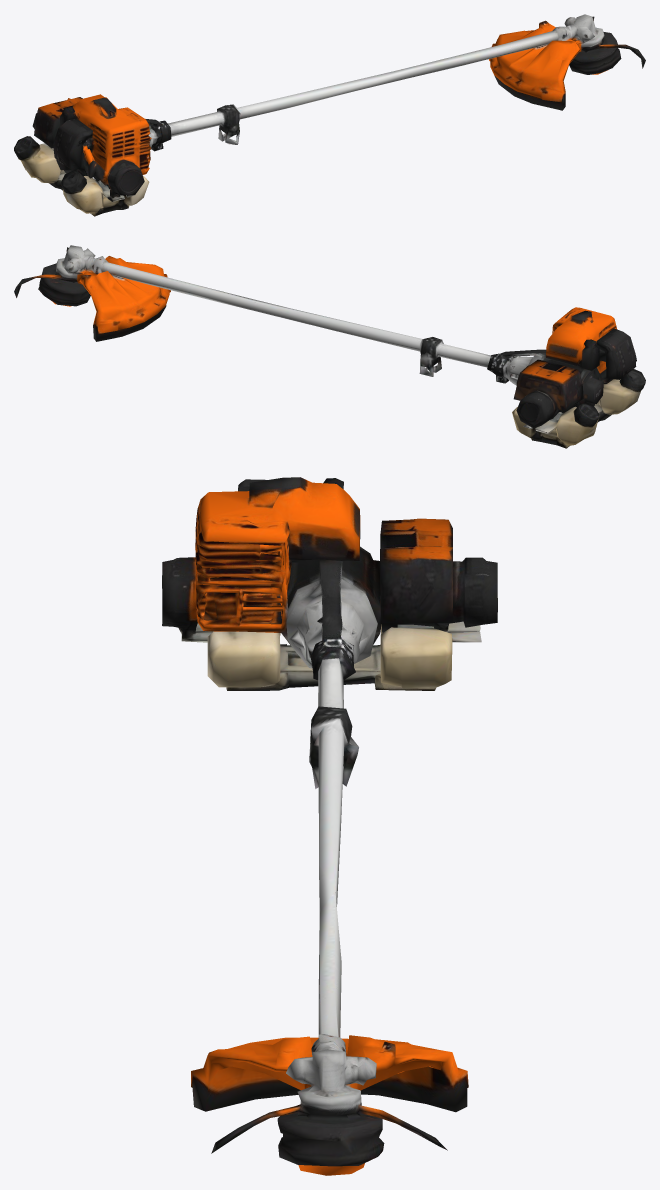
The model's file is tirpan_govde.glb.
3 renders of one model, top to bottom at view 1: azimuth 30°, elevation 25°; view 2: azimuth 150°, elevation 25°; view 3: azimuth 270°, elevation 25°, orthographic. The views are drawn at different scales.
Parts seen in each view (by area): view 1: tripo_node_5ec37809-a437-41fc-8ef6-4a4713528f0b; view 2: tripo_node_5ec37809-a437-41fc-8ef6-4a4713528f0b; view 3: tripo_node_5ec37809-a437-41fc-8ef6-4a4713528f0b.
Boxes of the visible parts, x1,y1,x2,y2 form: tripo_node_5ec37809-a437-41fc-8ef6-4a4713528f0b: [14, 14, 645, 216]; tripo_node_5ec37809-a437-41fc-8ef6-4a4713528f0b: [14, 245, 645, 448]; tripo_node_5ec37809-a437-41fc-8ef6-4a4713528f0b: [162, 477, 497, 1175].
Bounding box in the file's own units: 0.9808 × 0.1612 × 0.2466.
Materials: 1 (1 with a texture image).
